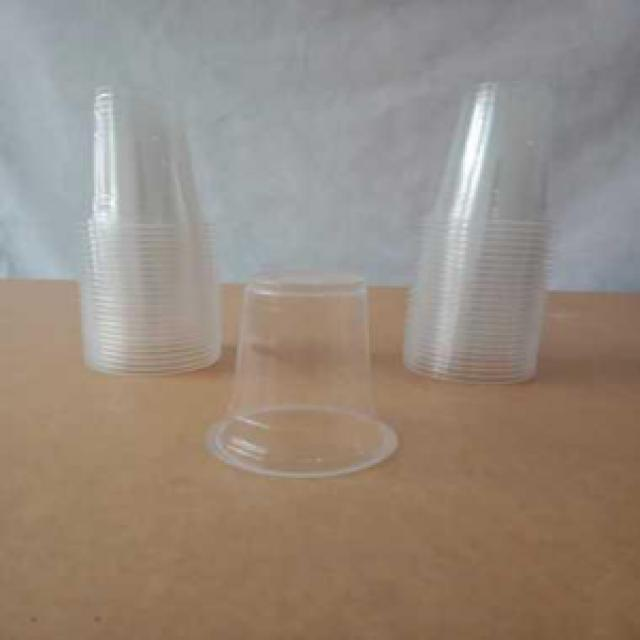plastic cup: (397, 66, 567, 395), (68, 79, 233, 378), (198, 269, 404, 482)
